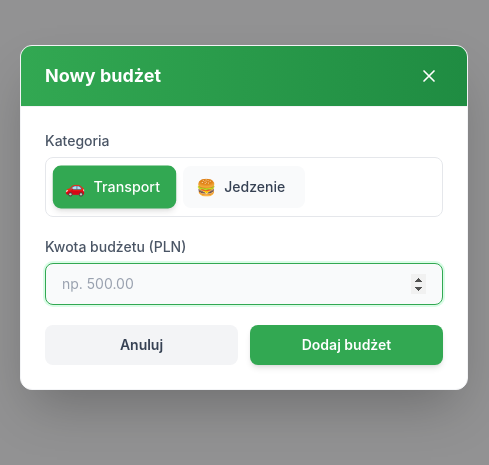
it: submit › rejects an empty amount
The image size is (489, 465).
Click the button "Dodaj budżet". click: (346, 344)
box: x1=250 y1=324 x2=443 y2=364
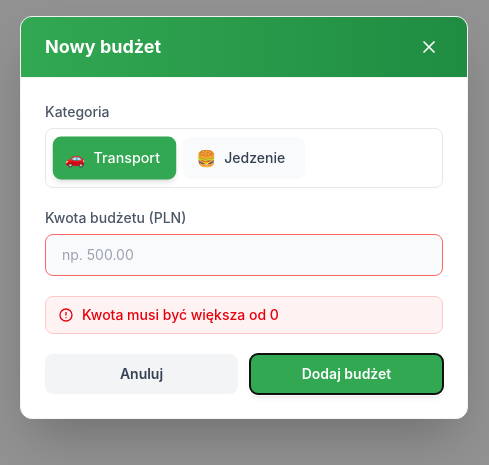
Check: the text "Kwota musi być większa od 0" is shown, box x1=45 y1=296 x2=443 y2=334
